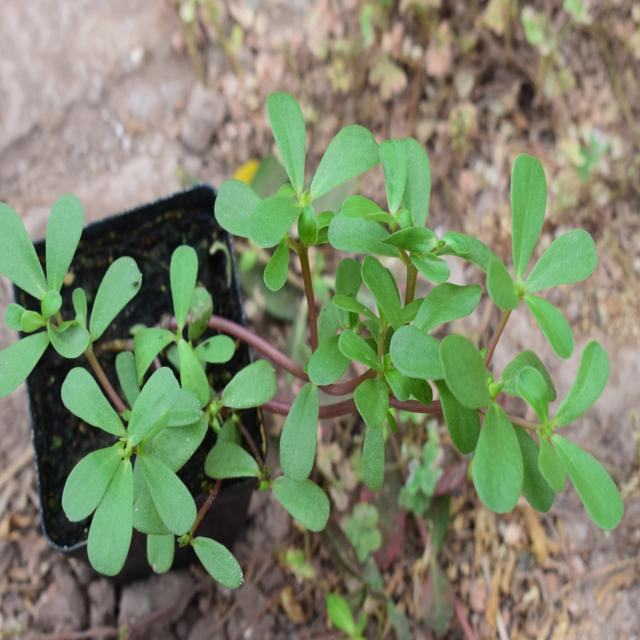purslane: (247, 111, 625, 562), (0, 189, 288, 582)
